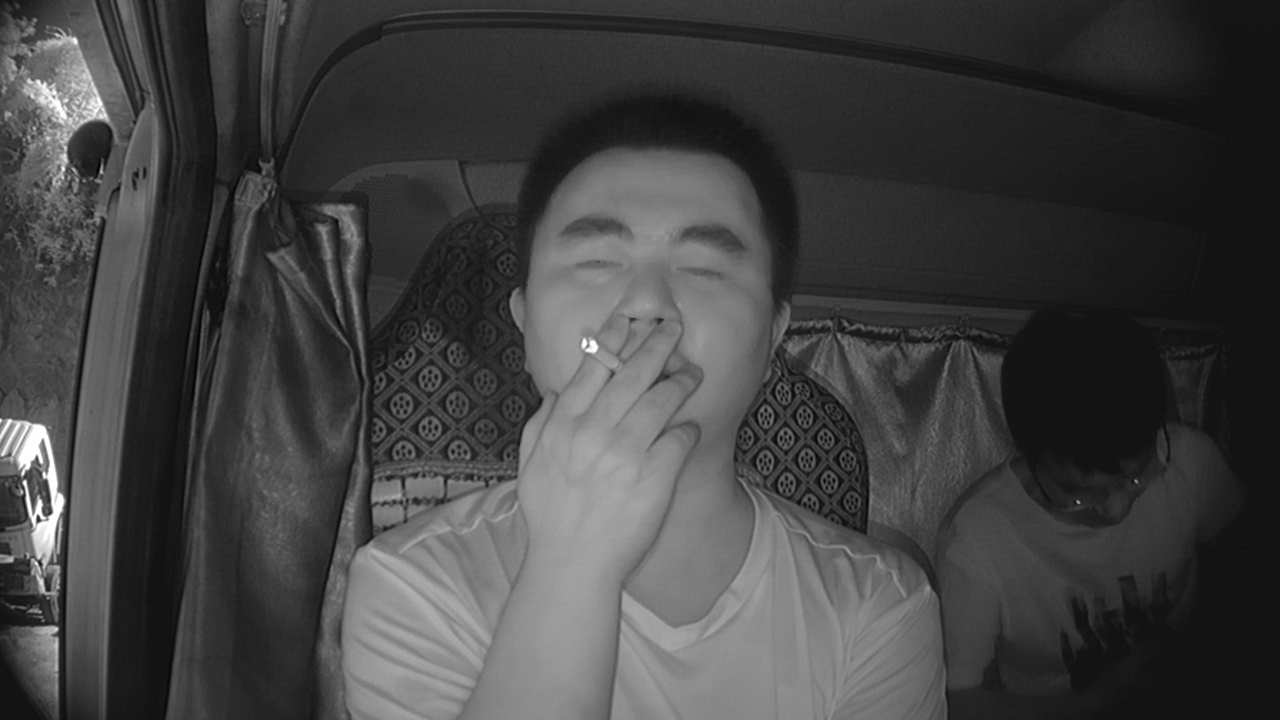hand: (531, 323, 701, 544)
